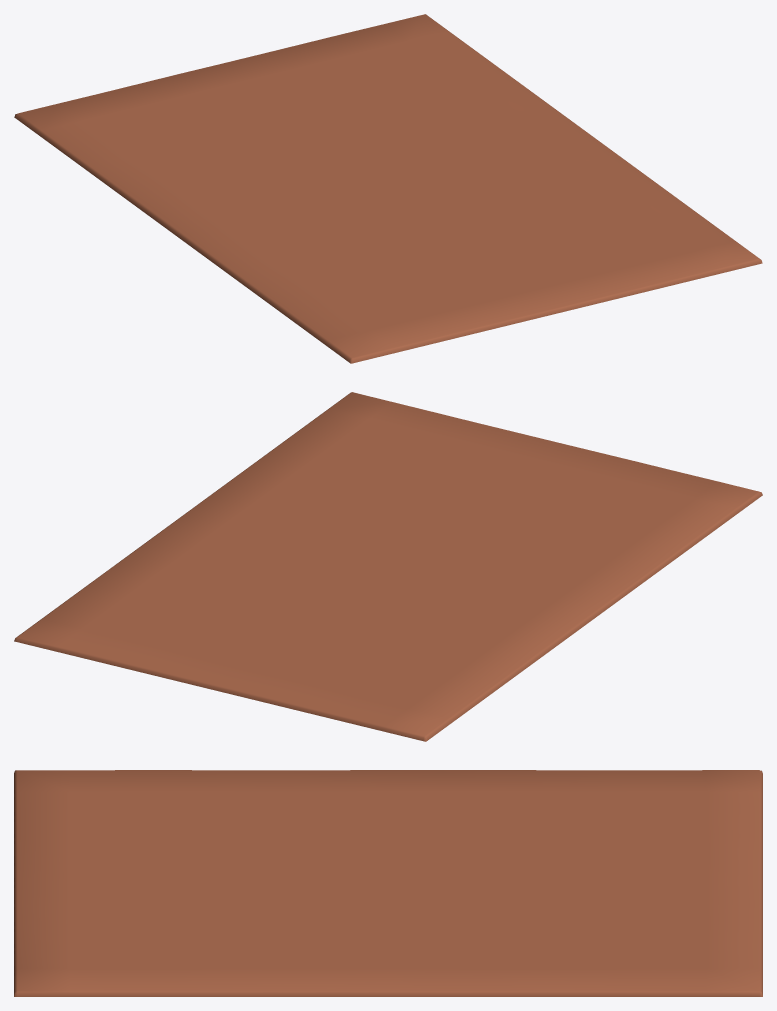
File: rug_4.glb
3 renders of one model, top to bottom at view 1: azimuth 30°, elevation 25°; view 2: azimuth 150°, elevation 25°; view 3: azimuth 270°, elevation 25°, orthographic. The views are drawn at different scales.
Parts seen in each view (by area): view 1: rug_v2; view 2: rug_v2; view 3: rug_v2.
Boxes of the visible parts, <box> form: rug_v2: <box>14,14,762,363</box>; rug_v2: <box>14,392,762,741</box>; rug_v2: <box>14,770,762,996</box>.
Size of the model in its own units: 1.2 by 0.0127 by 1.7.
